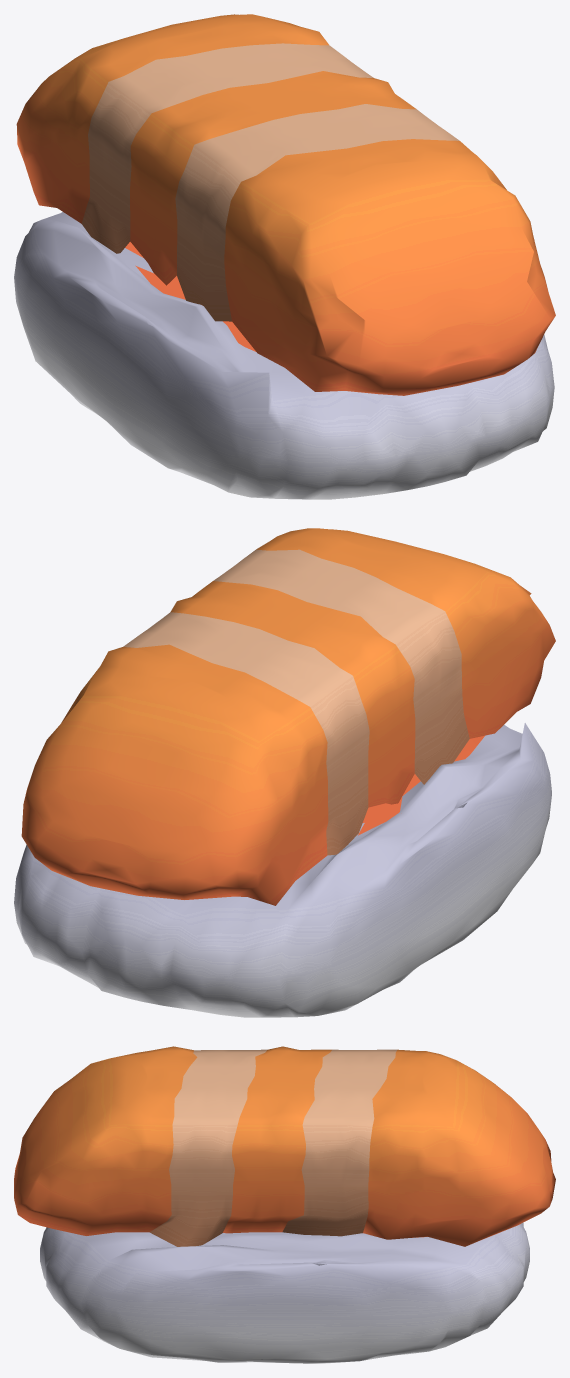
The picture shows the model from 3 angles, top to bottom: view 1: azimuth 30°, elevation 25°; view 2: azimuth 150°, elevation 25°; view 3: azimuth 270°, elevation 25°; orthographic projection. The views are drawn at different scales.
Size of the model in its own units: 0.5374 by 0.4442 by 0.9603.
1 material, 1 textured.
